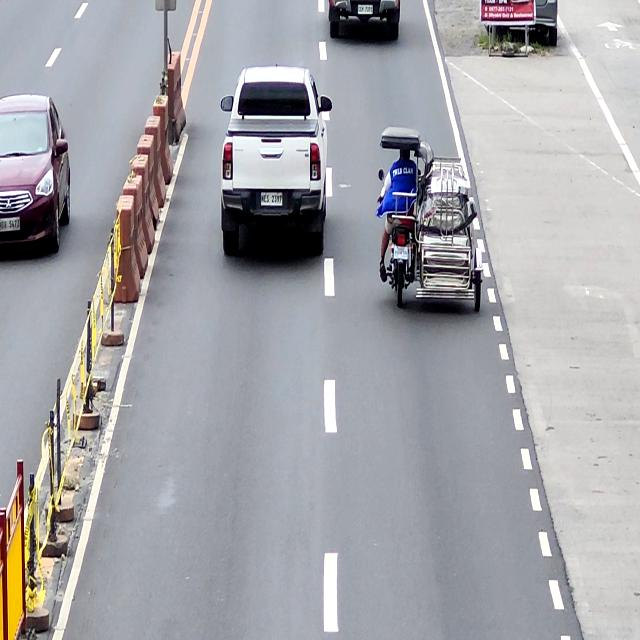Car: (220, 64, 332, 254)
License-Plate: (260, 192, 282, 206), (393, 245, 408, 261)
Tricycle: (378, 125, 483, 314)
